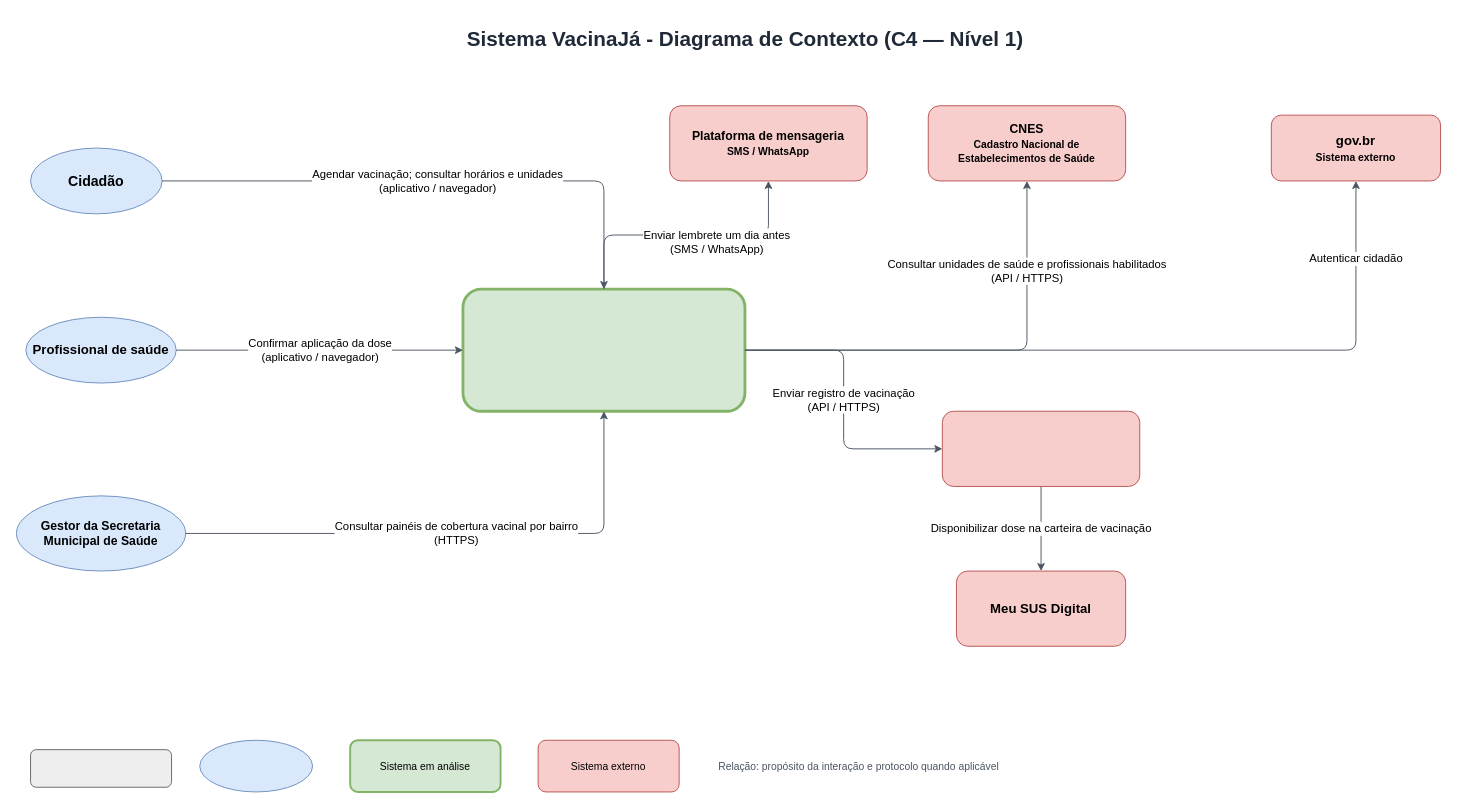
Some shapes in this 1457 by 808 pixel diagram are drawn without their labels. Here are the shapes that lost their labels. From the top down, the centre of each, then its label:
At (603,349): "VacinaJá Sistema de agendamento de vacinação".
At (1040,448): "RNDS Rede Nacional de Dados em Saúde".
At (101,768): "Legenda".
At (256,765): "Pessoa".
